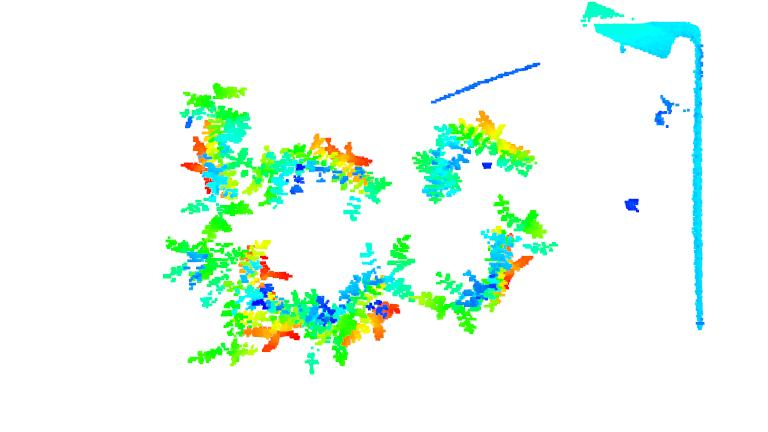chickpea: (419, 194, 560, 335), (298, 229, 416, 365), (168, 79, 250, 232), (159, 236, 294, 303), (187, 292, 304, 365), (302, 132, 394, 220), (435, 112, 537, 176), (239, 139, 320, 210)
